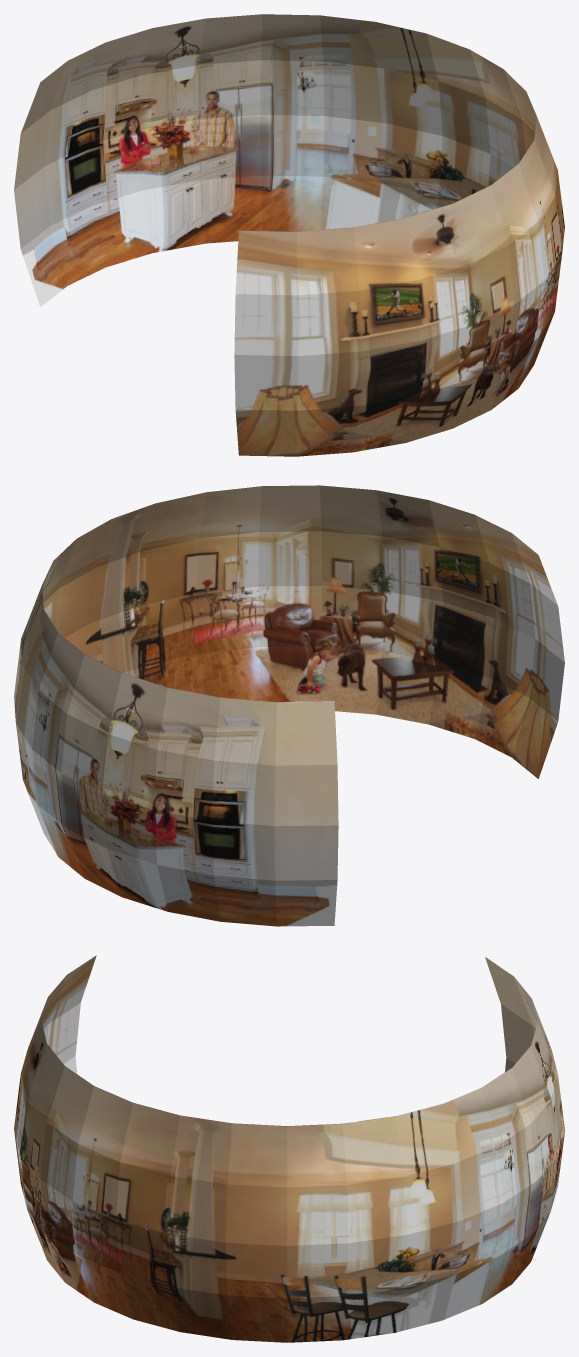
The model's file is Panorama_3_v01.dae.
3 views of the same model, one above another, from view 1: azimuth 30°, elevation 25°; view 2: azimuth 150°, elevation 25°; view 3: azimuth 270°, elevation 25° (orthographic). The views are drawn at different scales.
Parts seen in each view (by area): view 1: ID24; view 2: ID24; view 3: ID24.
Boxes of the visible parts, x1=… form: ID24: x1=14, y1=14, x2=564, y2=456; ID24: x1=14, y1=485, x2=564, y2=926; ID24: x1=14, y1=955, x2=564, y2=1342.
Bounding box in the file's own units: 7668 × 9408 × 4082.
1 material, 1 textured.
